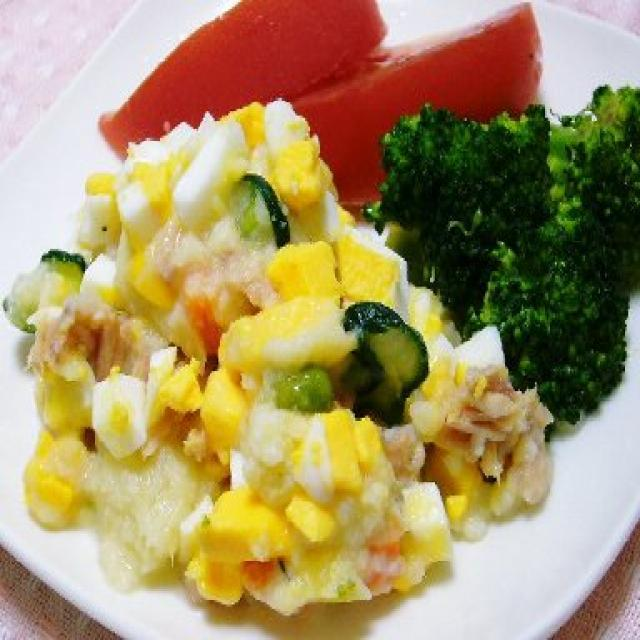Green Salad: (66, 126, 598, 564)
